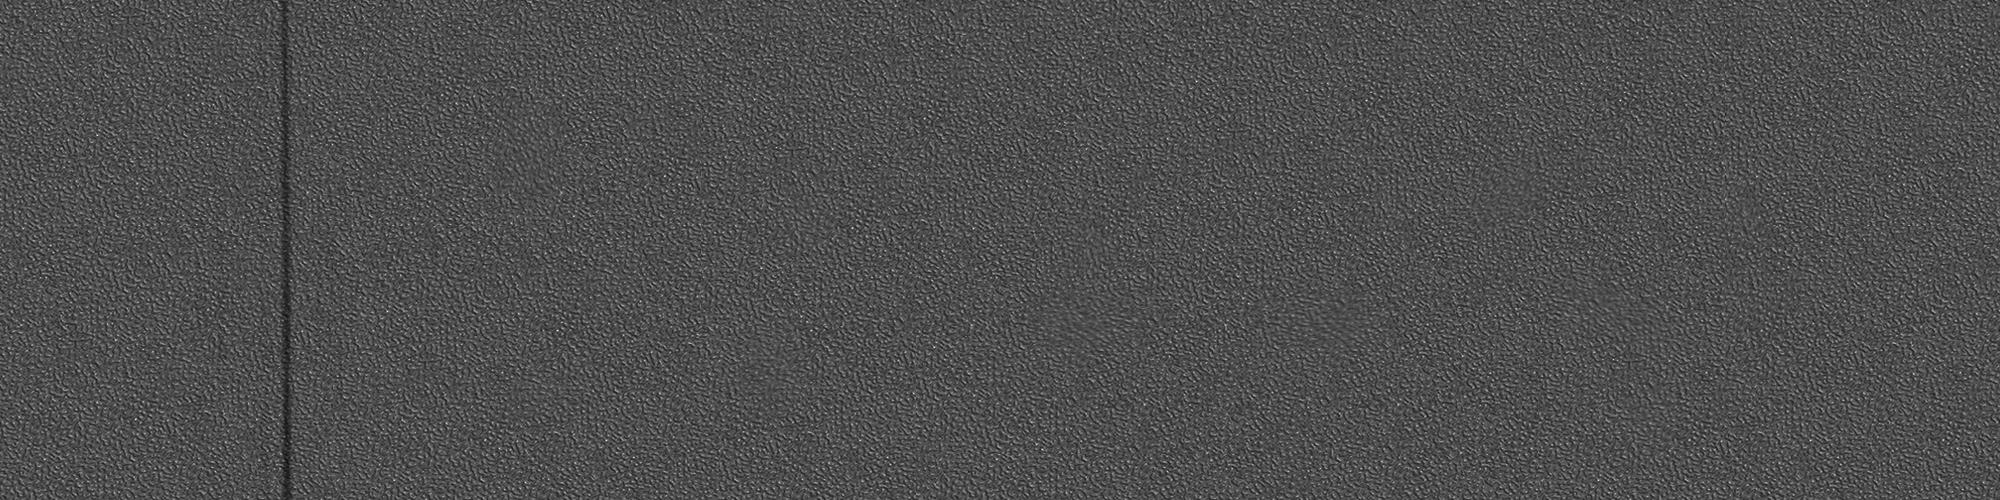DieDrag: (265, 4, 305, 500)
